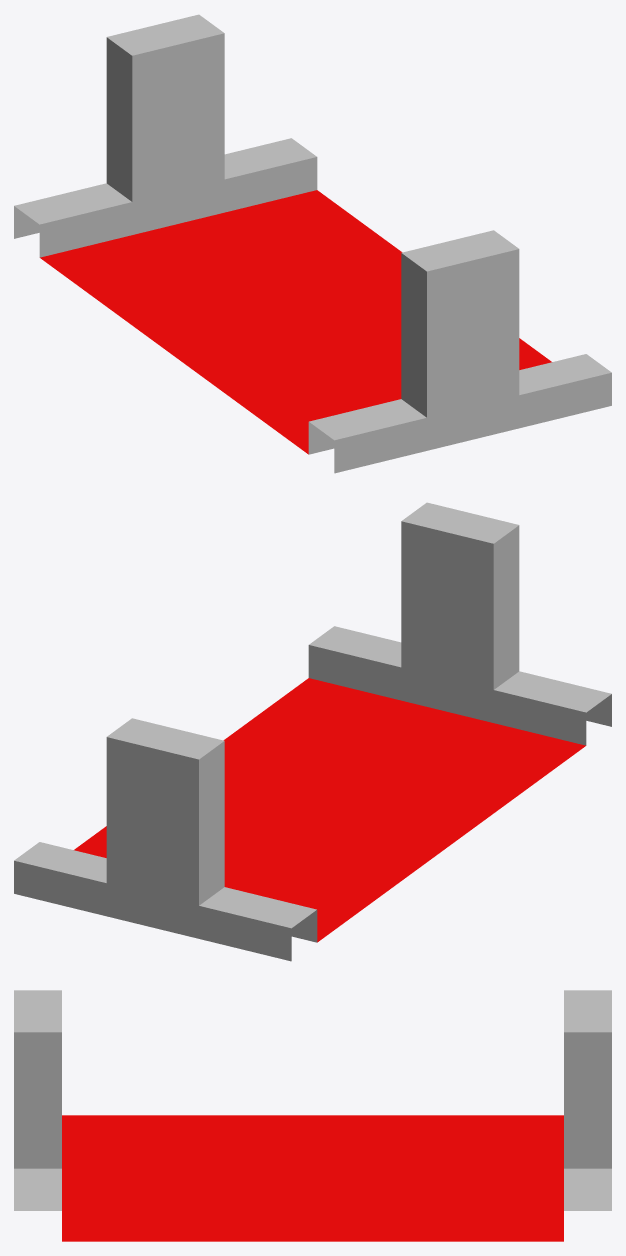
File: wooden_bridge_02_collision.fbx
3 renders of one model, top to bottom at view 1: azimuth 30°, elevation 25°; view 2: azimuth 150°, elevation 25°; view 3: azimuth 270°, elevation 25°, orthographic. The views are drawn at different scales.
Parts seen in each view (by area): view 1: obj1.118; view 2: obj1.118; view 3: obj1.118.
Part boxes in pixels (x1,y1,x2,y2): obj1.118: (14, 14, 611, 473); obj1.118: (14, 502, 611, 961); obj1.118: (14, 990, 611, 1241).
Bounding box in the file's own units: 4 × 2.47 × 8.
